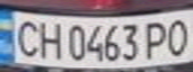0: (63, 21, 87, 62)
3: (121, 20, 145, 62)
4: (84, 21, 106, 63)
6: (103, 21, 124, 63)
C: (9, 16, 42, 58)
H: (33, 18, 66, 60)
O: (163, 16, 193, 57)
P: (139, 17, 172, 60)
